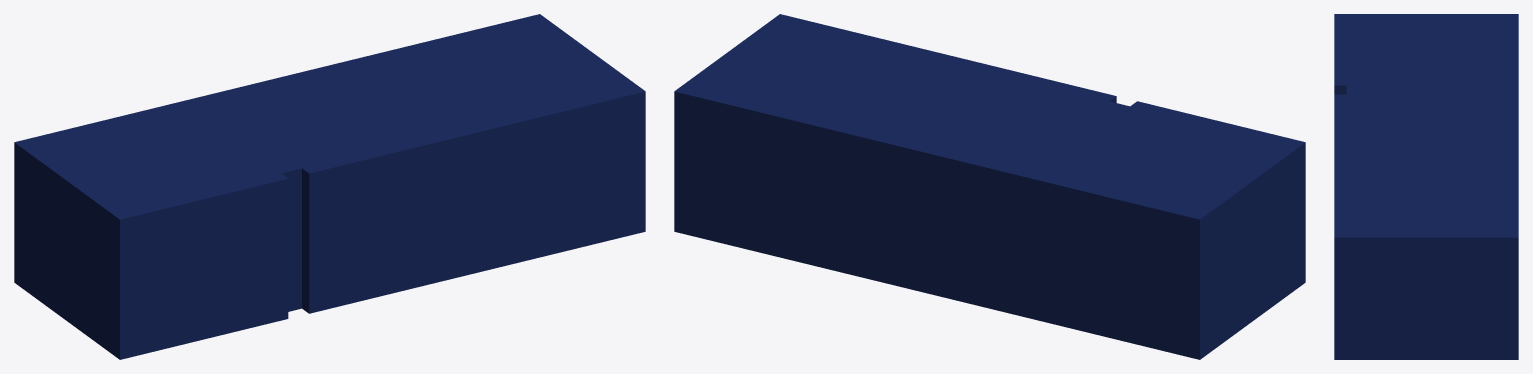
3 renders of one model, left to right at view 1: azimuth 30°, elevation 25°; view 2: azimuth 150°, elevation 25°; view 3: azimuth 270°, elevation 25°, orthographic. The views are drawn at different scales.
Parts seen in each view (by area): view 1: Cube.001; view 2: Cube.001; view 3: Cube.001.
Boxes of the visible parts, x1,y1,x2,y2 form: Cube.001: [14, 14, 645, 359]; Cube.001: [674, 14, 1305, 359]; Cube.001: [1334, 14, 1518, 359].
Bounding box in the file's own units: 23.54 × 6 × 8.21.
